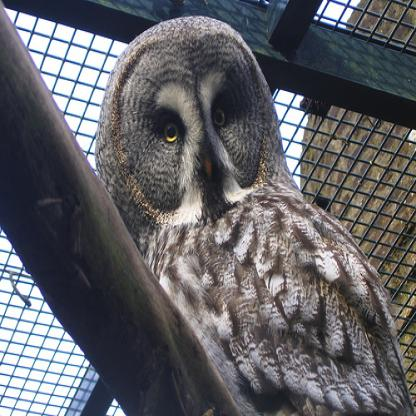bird: (95, 11, 415, 415)
